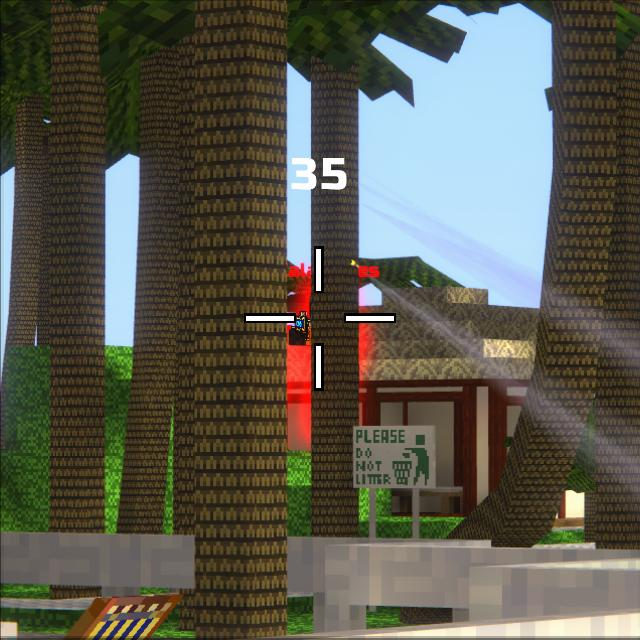Enemy: (288, 290, 311, 346)
